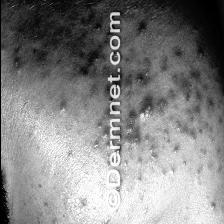Non-Cancerous Skin Condition: (122, 102, 160, 154)
